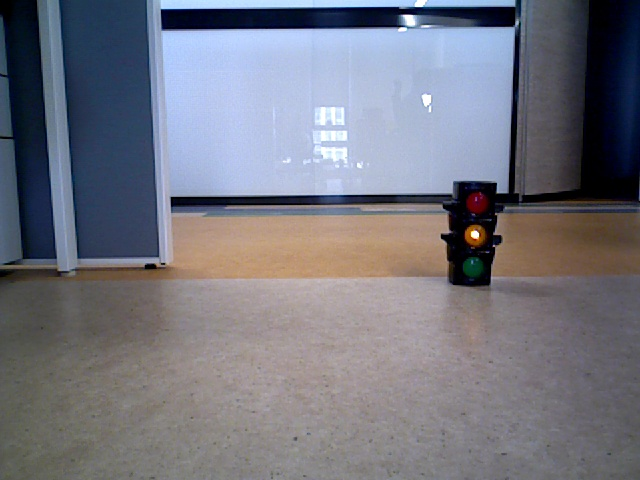yellow: (453, 184, 492, 284)
